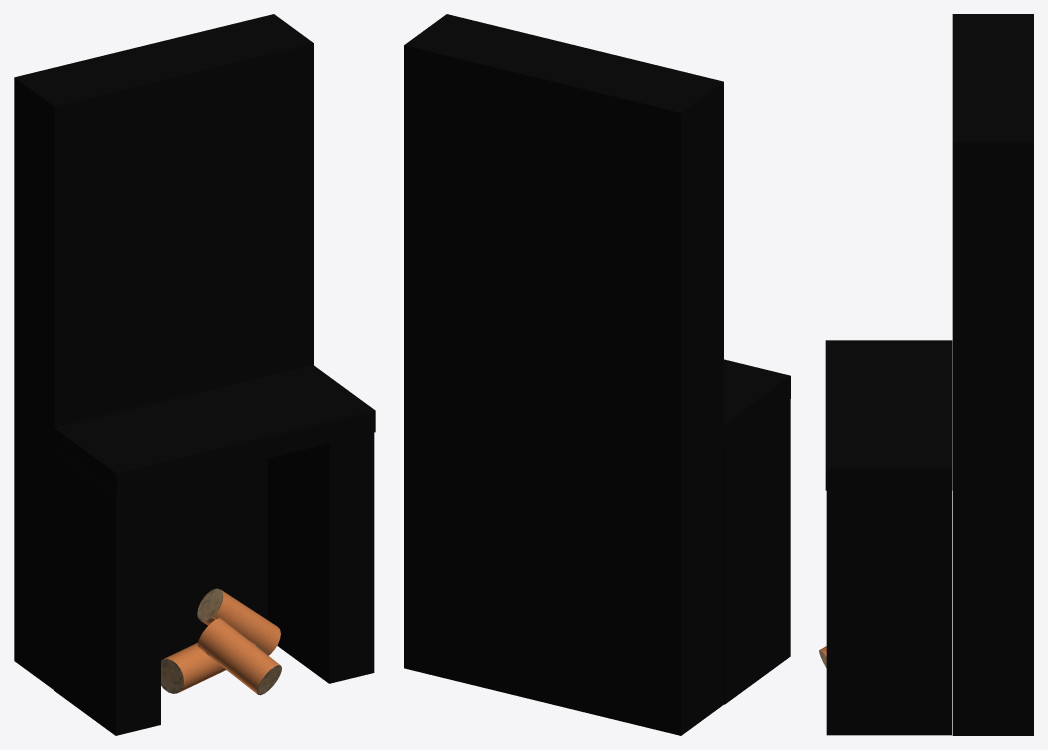
Rendered from fire.obj.
3 views of the same model, side by side, from view 1: azimuth 30°, elevation 25°; view 2: azimuth 150°, elevation 25°; view 3: azimuth 270°, elevation 25° (orthographic). The views are drawn at different scales.
Parts seen in each view (by area): view 1: Box001, Box002, Box003, Box004, Cylinder002, Cylinder003, Cylinder001; view 2: Box001, Box002, Box004; view 3: Box001, Box003, Box004.
Boxes of the visible parts, left/top/right/bottom form: Box001: left=14, top=14, right=313, bottom=689; Box002: left=54, top=450, right=160, bottom=735; Box003: left=267, top=432, right=374, bottom=683; Box004: left=54, top=365, right=375, bottom=495; Cylinder002: left=197, top=618, right=281, bottom=695; Cylinder003: left=197, top=588, right=280, bottom=655; Cylinder001: left=161, top=642, right=225, bottom=693; Box001: left=404, top=14, right=723, bottom=735; Box002: left=724, top=399, right=790, bottom=704; Box004: left=724, top=359, right=790, bottom=447; Box001: left=952, top=14, right=1033, bottom=735; Box003: left=826, top=490, right=951, bottom=735; Box004: left=825, top=340, right=952, bottom=490.
Size of the model in its own units: 42.77 by 91.67 by 30.1.
